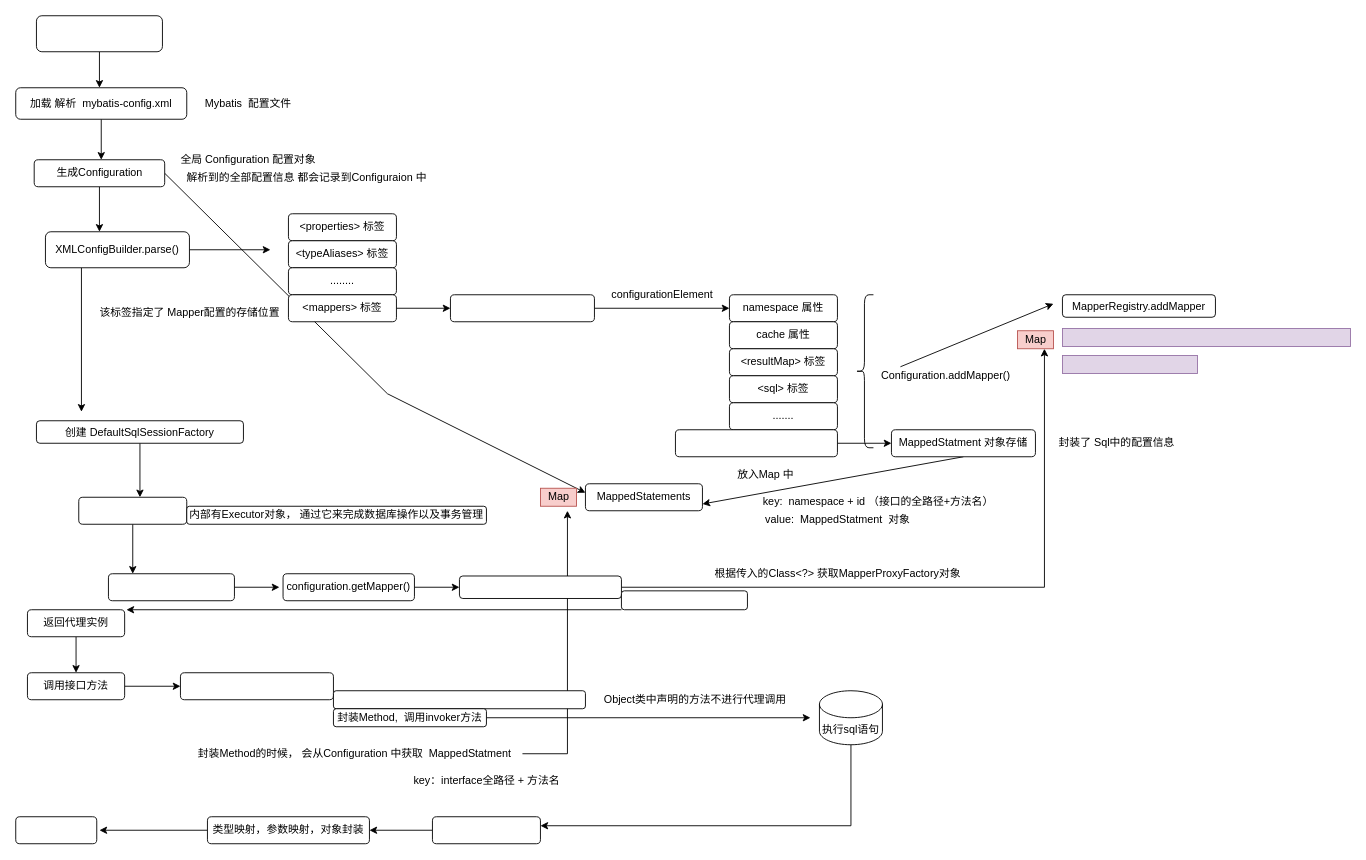
Image size: 1366x860. Some labels were removed from this diagram. The shapes that lost their labels are listed below. From the top down, each one's centre as x and y in pixels, then its label:
At (99,33): "初始化".
At (522,308): "XmlMapperBuilder.parse()".
At (1206,337): "knownMappers.put(type , new MapperProxyFactory(type))".
At (1129,364): "扫描 接口类中的注解配置".
At (756,443): "select | insert | update | delete".
At (132,510): "SqlSession".
At (171,587): "sqlSession.getMapper()".
At (540,586): "MapperRegisty.getMapper()".
At (684,600): "创建 接口的代理实例".
At (256,686): "调到代理对象的Invoker()方法".
At (459,699): "method.getDeclaringClass().equals(Object.class)".
At (56,830): "结果返回".
At (486,830): "返回数据".
